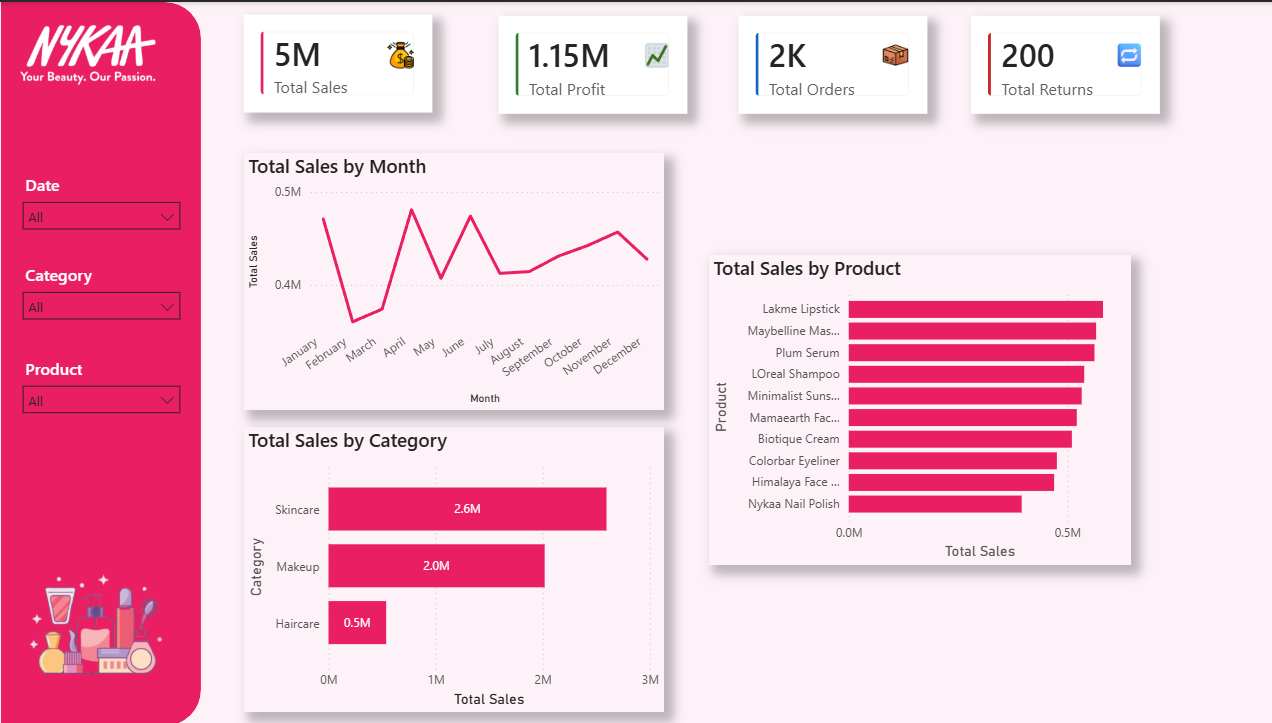

The page's visual inventory and layout, read from the dashboard file:
{"tool":"powerbi","page":{"name":"product analysis","canvas":[1280,720],"ordinal":0},"visuals":[{"type":"shape","box":[9.6,0,199,720.4],"z":0},{"type":"image","box":[10,12.4,176.6,82.1],"z":1000},{"type":"cardVisual","fields":{"Data":["Measure_Table.Total Sales"]},"box":[251.1,12.3,188,97.4],"z":2000},{"type":"cardVisual","fields":{"Data":["Measure_Table.Total Profit"]},"box":[505,13.7,188,97.4],"z":3000},{"type":"cardVisual","fields":{"Data":["Measure_Table.Total Orders"]},"box":[743.7,13.7,188,97.4],"z":4000},{"type":"cardVisual","fields":{"Data":["Measure_Table.Total Returns"]},"box":[975.6,13.7,188,97.4],"z":5000},{"type":"image","box":[393.8,37,26.1,31.6],"z":6000},{"type":"image","box":[886.5,37,26.1,31.6],"z":7000},{"type":"image","box":[1119.7,37,26.1,31.6],"z":8000},{"type":"image","box":[639.5,32.9,46.7,41.2],"z":9000},{"type":"lineChart","fields":{"Category":["Date.Date.Variation.Date Hierarchy.Year","Date.Date.Variation.Date Hierarchy.Quarter","Date.Date.Variation.Date Hierarchy.Month","Date.Date.Variation.Date Hierarchy.Day"],"Y":["Measure_Table.Total Sales"]},"box":[251.1,150.9,418.5,255.2],"z":10000},{"type":"clusteredBarChart","fields":{"Category":["Nykaa_Sales.Category"],"Y":["Measure_Table.Total Sales"]},"box":[251.1,422.6,418.5,284],"z":11000},{"type":"clusteredBarChart","fields":{"Category":["Nykaa_Sales.Product"],"Y":["Measure_Table.Total Sales"]},"box":[713.6,251.1,419.9,308.7],"z":12000},{"type":"slicer","fields":{"Values":["Nykaa_Sales.OrderDate"]},"box":[20.6,166,177,74.1],"z":13000},{"type":"slicer","fields":{"Values":["Nykaa_Sales.Category"]},"box":[20.6,255.2,177,74.1],"z":14000},{"type":"slicer","fields":{"Values":["Nykaa_Sales.Product"]},"box":[20.6,348.5,177,74.1],"z":15000},{"type":"image","box":[23.3,565.4,163.3,108.4],"z":16000}]}

Visuals, with their boxes in screenshot pixels (x1, y1, x2, y2), scaled from the page's 1280x720 canvas onto the 1272x723 screenshot:
shape: 10 0 207 722
image: 10 12 185 95
cardVisual - Measure_Table.Total Sales: 250 12 436 110
cardVisual - Measure_Table.Total Profit: 502 14 689 112
cardVisual - Measure_Table.Total Orders: 739 14 926 112
cardVisual - Measure_Table.Total Returns: 970 14 1156 112
image: 391 37 417 69
image: 881 37 907 69
image: 1113 37 1139 69
image: 636 33 682 74
lineChart - Date.Date.Variation.Date Hierarchy.Year x Date.Date.Variation.Date Hierarchy.Quarter: 250 152 665 408
clusteredBarChart - Nykaa_Sales.Category x Measure_Table.Total Sales: 250 424 665 710
clusteredBarChart - Nykaa_Sales.Product x Measure_Table.Total Sales: 709 252 1126 562
slicer - Nykaa_Sales.OrderDate: 20 167 196 241
slicer - Nykaa_Sales.Category: 20 256 196 331
slicer - Nykaa_Sales.Product: 20 350 196 424
image: 23 568 185 677
